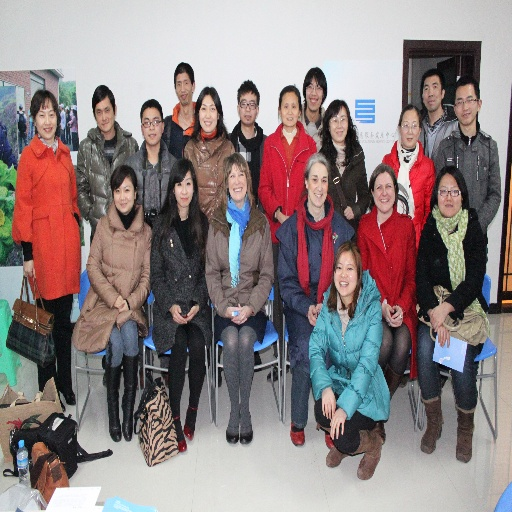hand: (422, 297, 454, 333), (329, 405, 347, 438), (321, 388, 336, 420), (231, 306, 253, 326), (381, 301, 398, 325), (169, 304, 188, 325), (436, 322, 450, 347), (391, 304, 404, 325), (22, 260, 36, 278), (308, 303, 318, 326), (341, 203, 354, 220), (186, 301, 198, 319), (226, 302, 239, 318), (112, 294, 123, 309), (118, 300, 129, 314), (277, 213, 289, 223), (316, 301, 324, 312)
